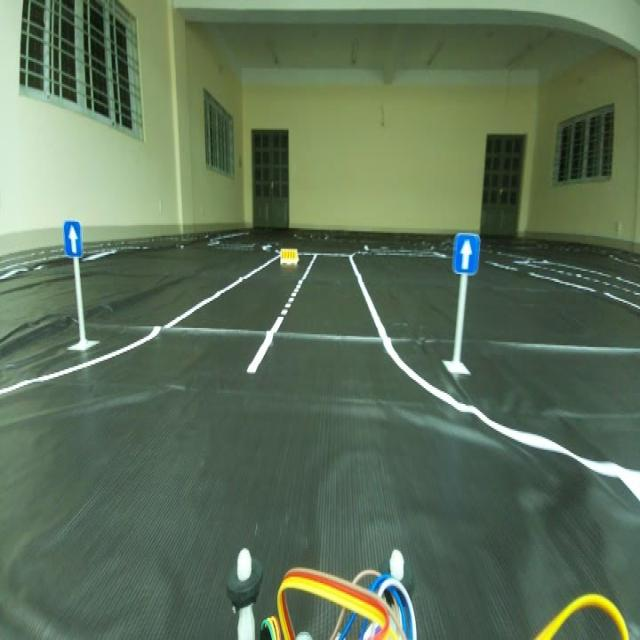onewayroad: (451, 225, 481, 277), (61, 220, 82, 252)
roadblock: (279, 245, 300, 268)
